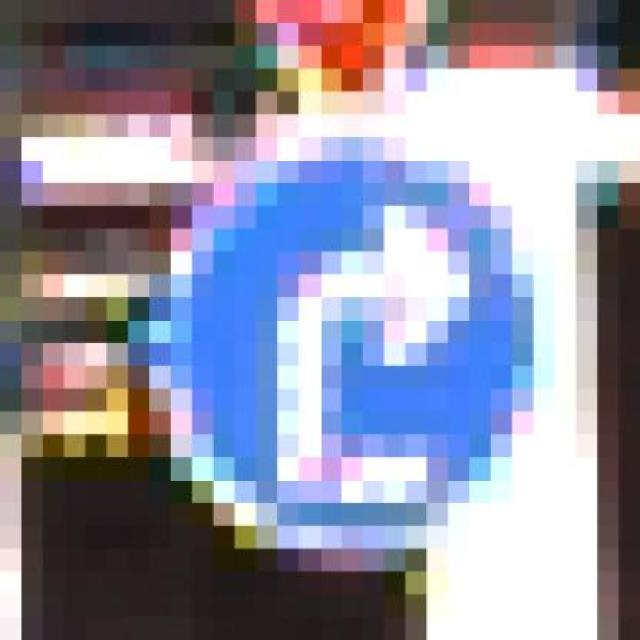Turn right ahead: (128, 137, 555, 572)
